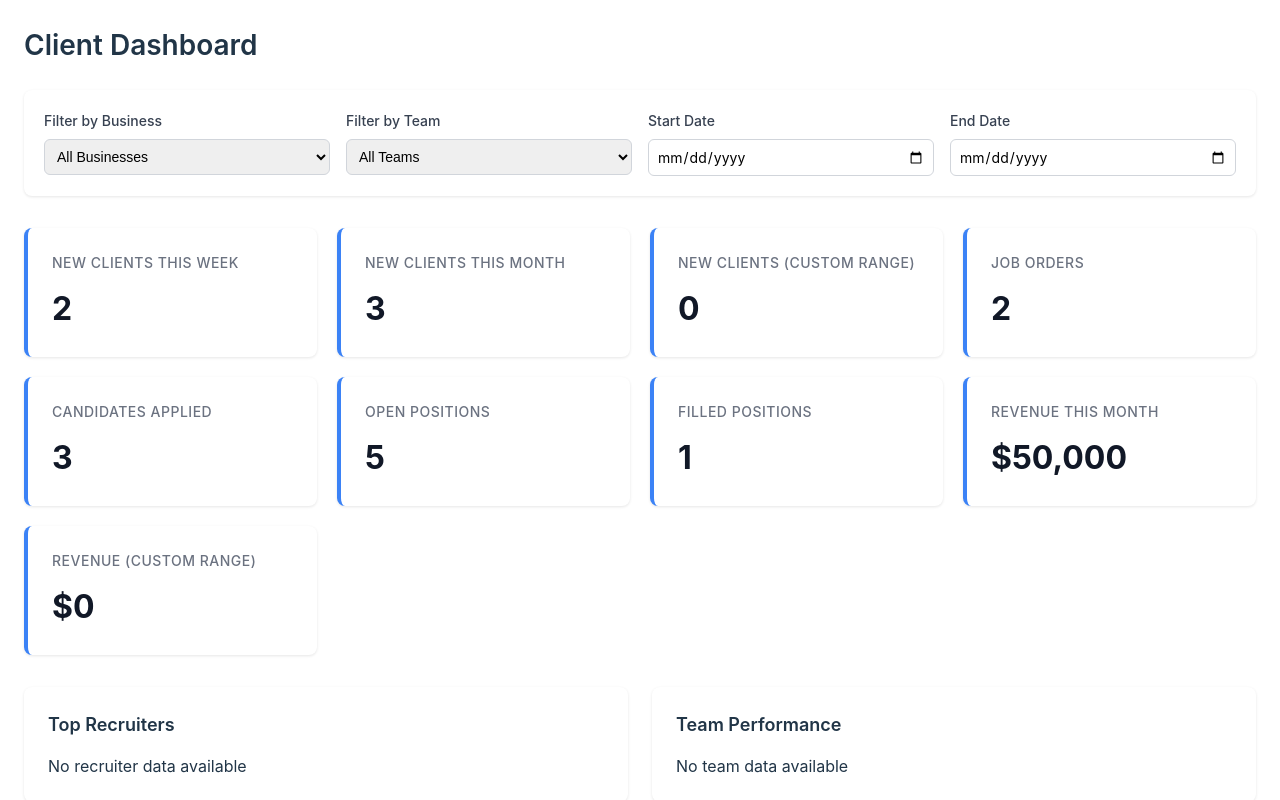
it: ClientDashboard › allows filtering by team
The width and height of the screenshot is (1280, 800).
Select "IT Recruiting Team" in the dropdown labelled "Filter by Team": (489,157) [346, 139, 632, 175]
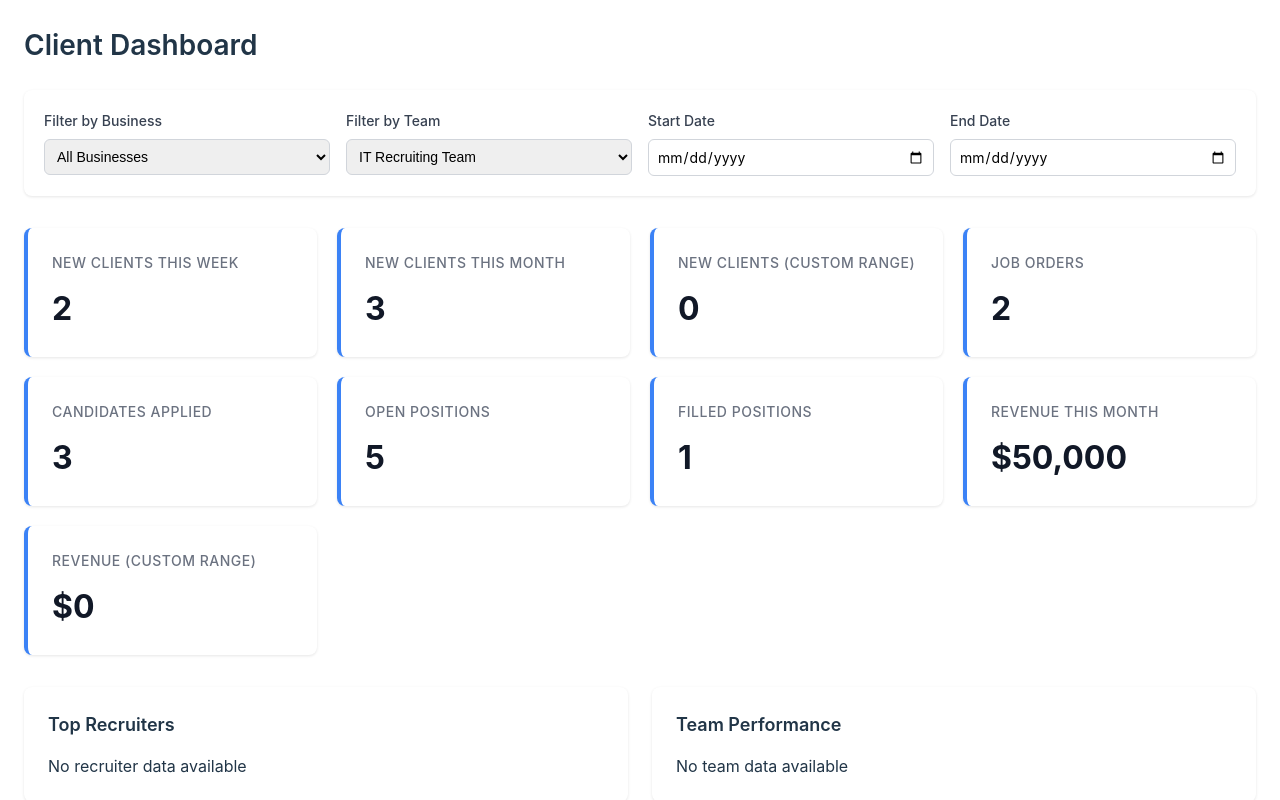
Expected: the dropdown labelled "Filter by Team" shows "IT Recruiting Team", [346, 139, 632, 175]
